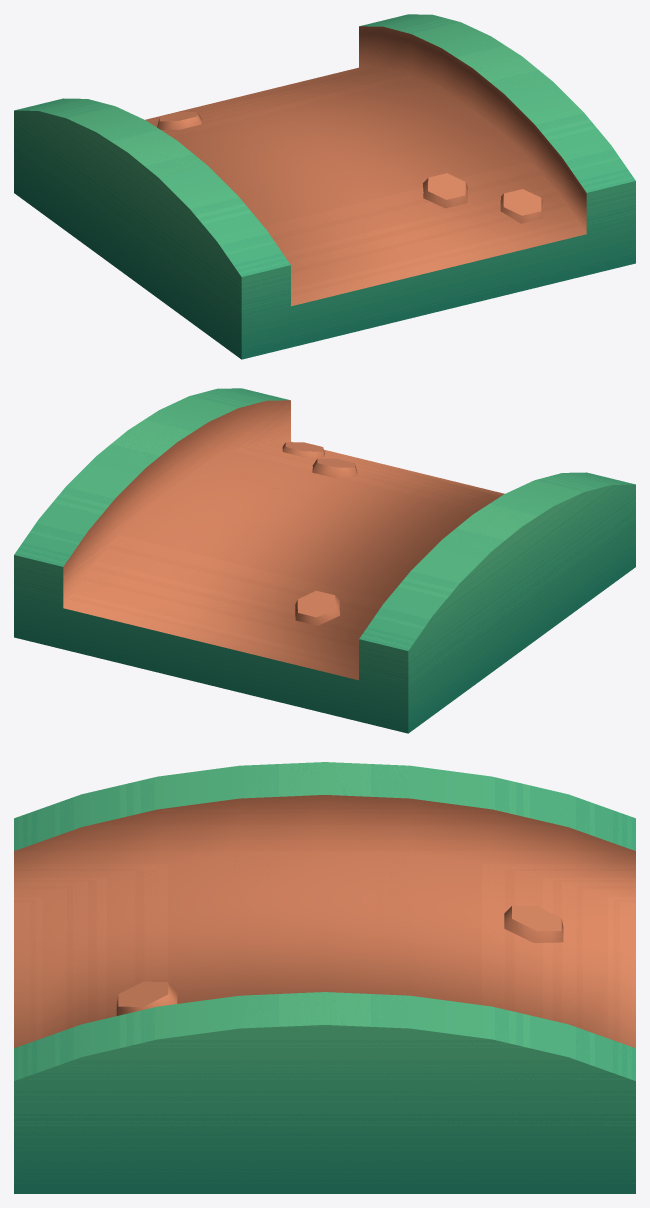
File: tower-defense-kit--tile-bump.glb
The picture shows the model from 3 angles, top to bottom: view 1: azimuth 30°, elevation 25°; view 2: azimuth 150°, elevation 25°; view 3: azimuth 270°, elevation 25°; orthographic projection. The views are drawn at different scales.
Visible parts, largest first — view 1: tile-bump; view 2: tile-bump; view 3: tile-bump.
Boxes of the visible parts, box(x1,y1,x2,y2) form: tile-bump: box(14, 14, 635, 359); tile-bump: box(14, 388, 635, 733); tile-bump: box(14, 762, 635, 1193).
Bounding box in the file's own units: 1 × 0.3 × 1.
1 material, 1 textured.
